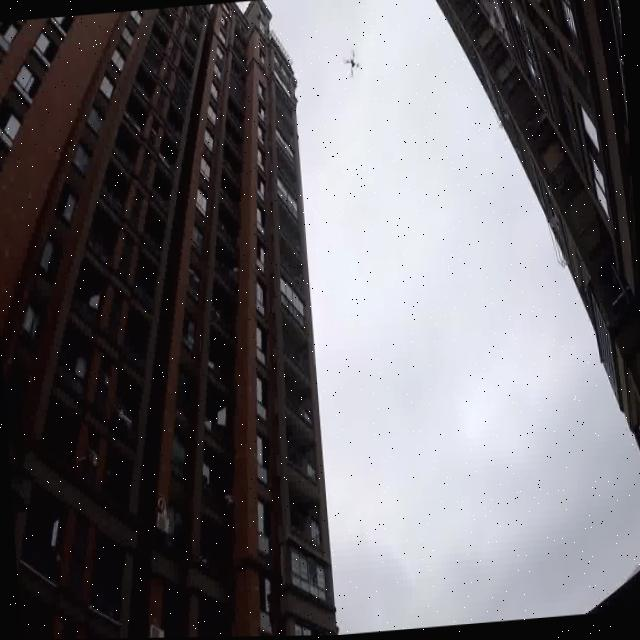drone: (337, 41, 367, 102)
